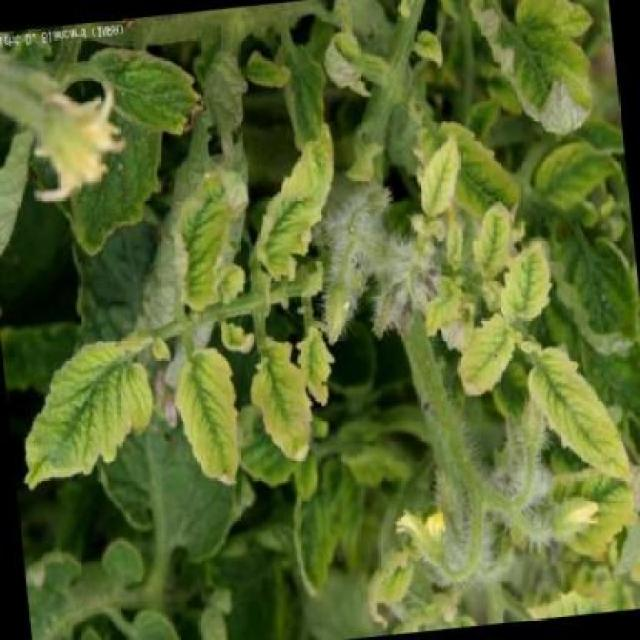Healthy Leaf: (8, 322, 169, 500), (237, 106, 351, 286), (156, 141, 252, 324), (522, 334, 630, 492), (177, 340, 245, 498), (446, 298, 526, 418), (252, 348, 312, 488), (496, 225, 570, 329), (404, 118, 473, 218)
